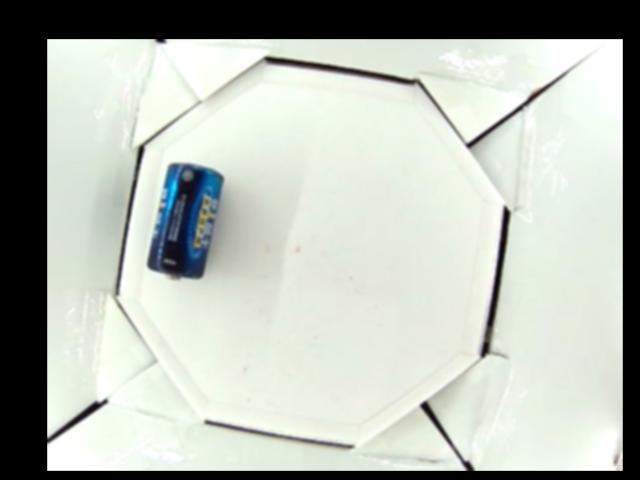Battery: (145, 161, 224, 280)
